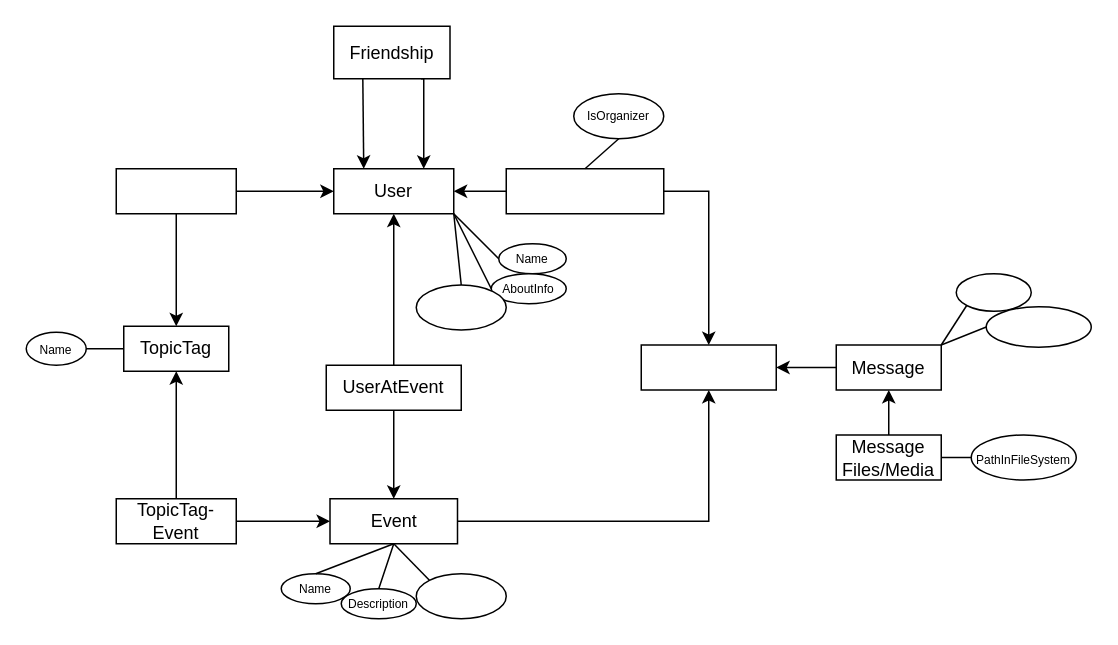
Image size: 1118x645. Some labels were removed from this diagram. The shapes that lost their labels are listed below. From the top down, each one's centre as x and y in pixels, then its label:
(x=175, y=190): TopicTag- User
(x=584, y=190): UserInChatRoom
(x=460, y=307): Avatar(path in file system)
(x=993, y=291): Text
(x=1038, y=326): IsMediaAttached
(x=708, y=367): ChatRoom
(x=460, y=595): ArrangmentTime
